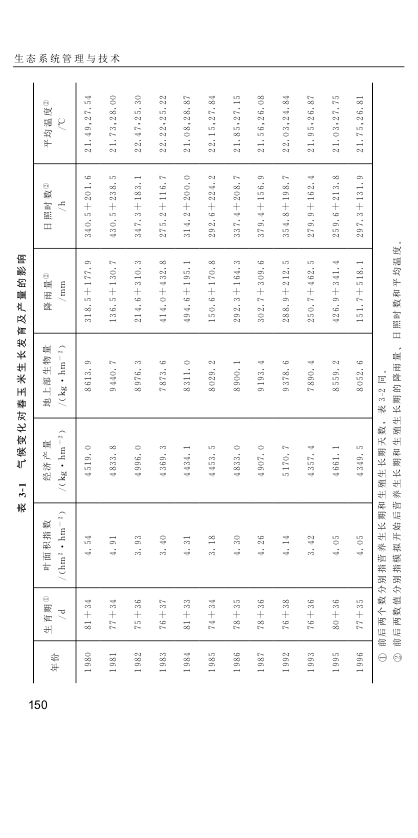table: (33, 82, 374, 683)
